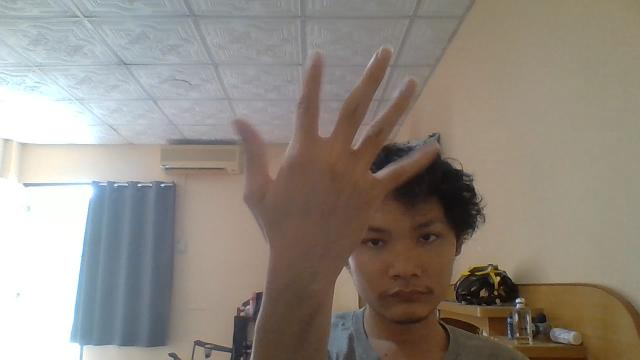backword: (231, 44, 441, 276)
